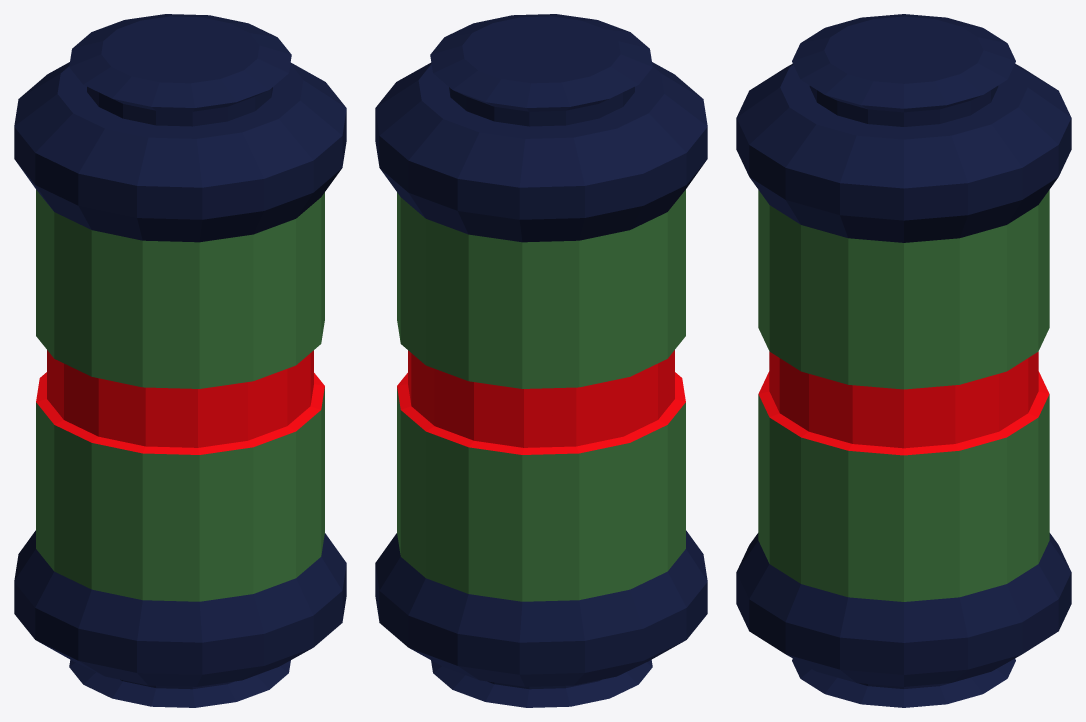
File: Grenade.glb
3 views of the same model, side by side, from view 1: azimuth 30°, elevation 25°; view 2: azimuth 150°, elevation 25°; view 3: azimuth 270°, elevation 25° (orthographic).
Visible parts, largest first — view 1: Cylinder; view 2: Cylinder; view 3: Cylinder.
Part boxes in pixels (<box>): Cylinder: <box>14,14,346,707</box>; Cylinder: <box>375,14,707,707</box>; Cylinder: <box>736,14,1071,707</box>.
Bounding box in the file's own units: 0.1151 × 0.2356 × 0.1151.
